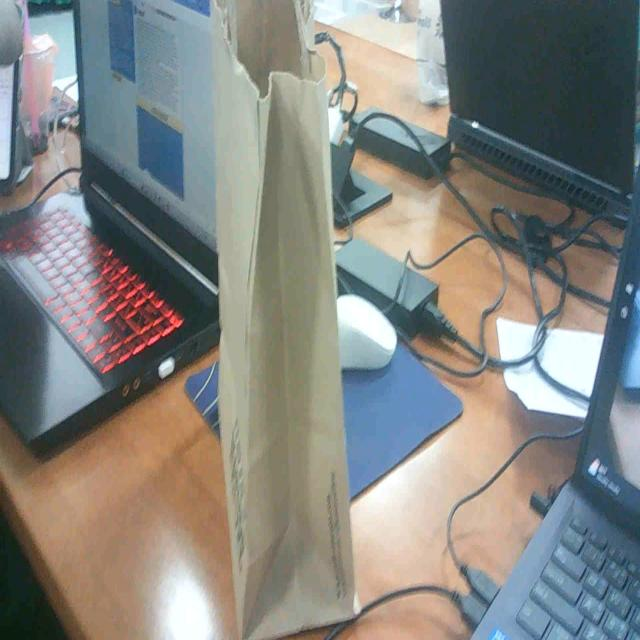bag: (207, 0, 392, 640)
